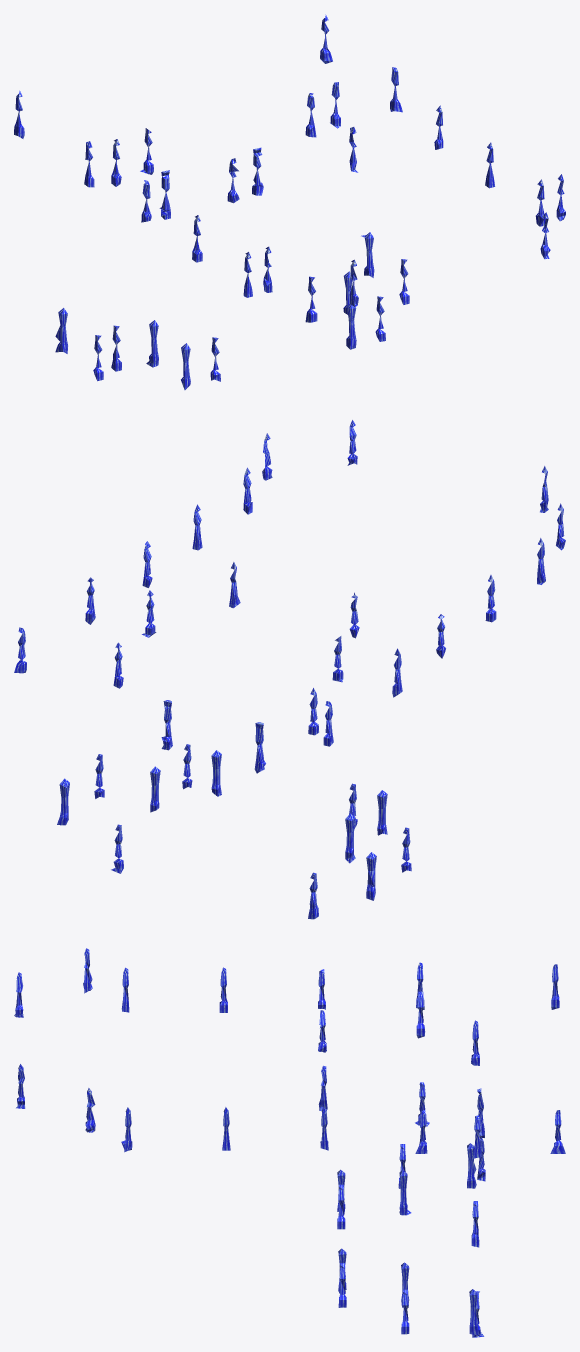
3 renders of one model, top to bottom at view 1: azimuth 30°, elevation 25°; view 2: azimuth 150°, elevation 25°; view 3: azimuth 270°, elevation 25°, orthographic. The views are drawn at different scales.
Size of the model in its own units: 0.8412 by 0.7163 by 1.3.
Materials: 1 (1 with a texture image).
